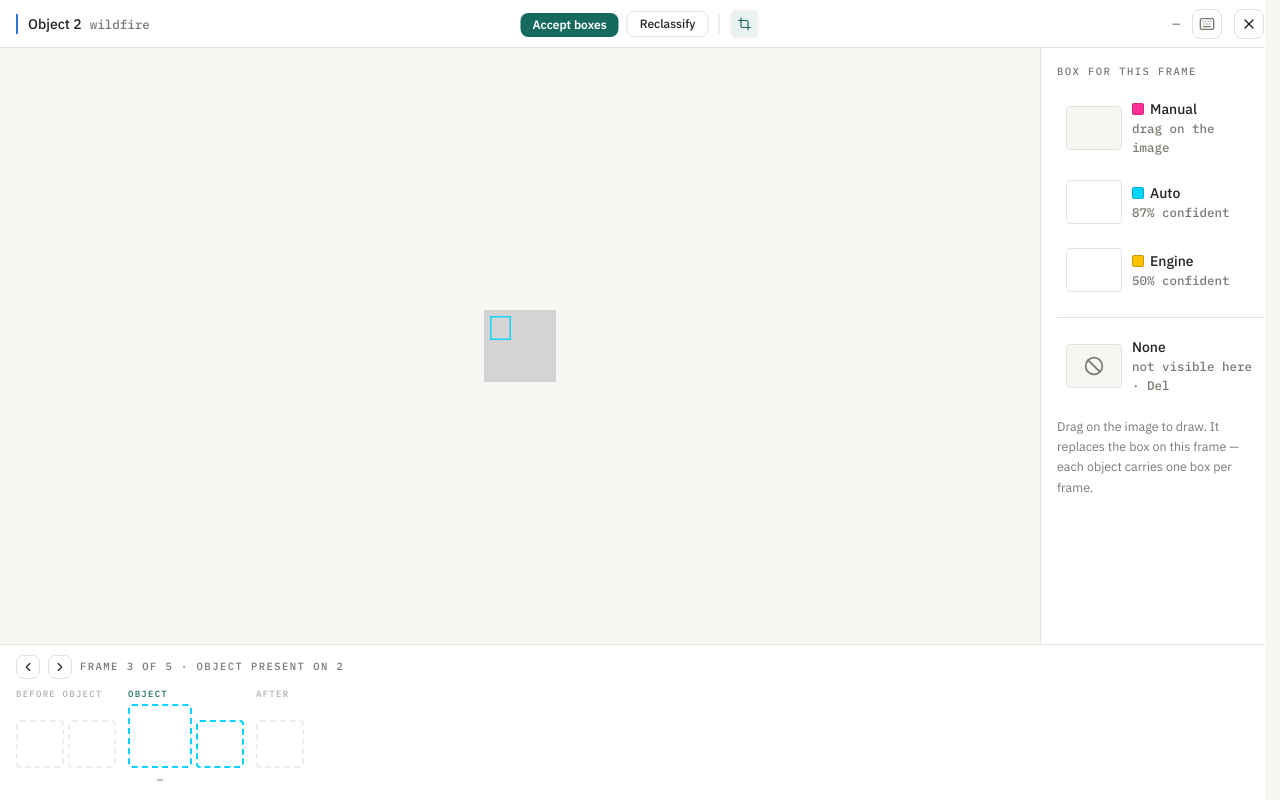
Test: LocalizeObjectEditor › hover preview solos the candidate on an undecided frame too
Expected: the element with test id "ghost-box-auto-0" is shown, x1=490 y1=317 x2=511 y2=338
Hover over the button with test id "source-row-engine" at [1160, 270], box x1=1057 y1=239 x2=1264 y2=301
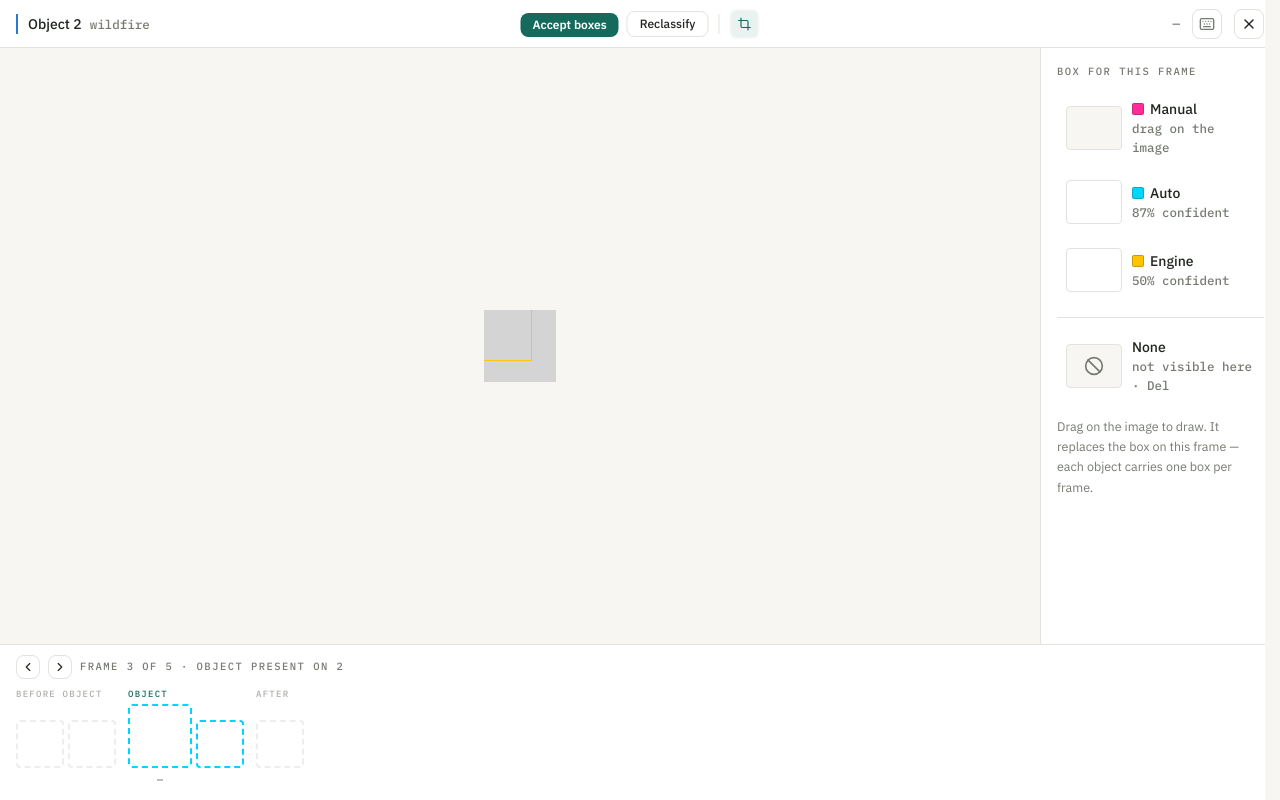
Result: the element with test id "ghost-box-auto-0" is gone
